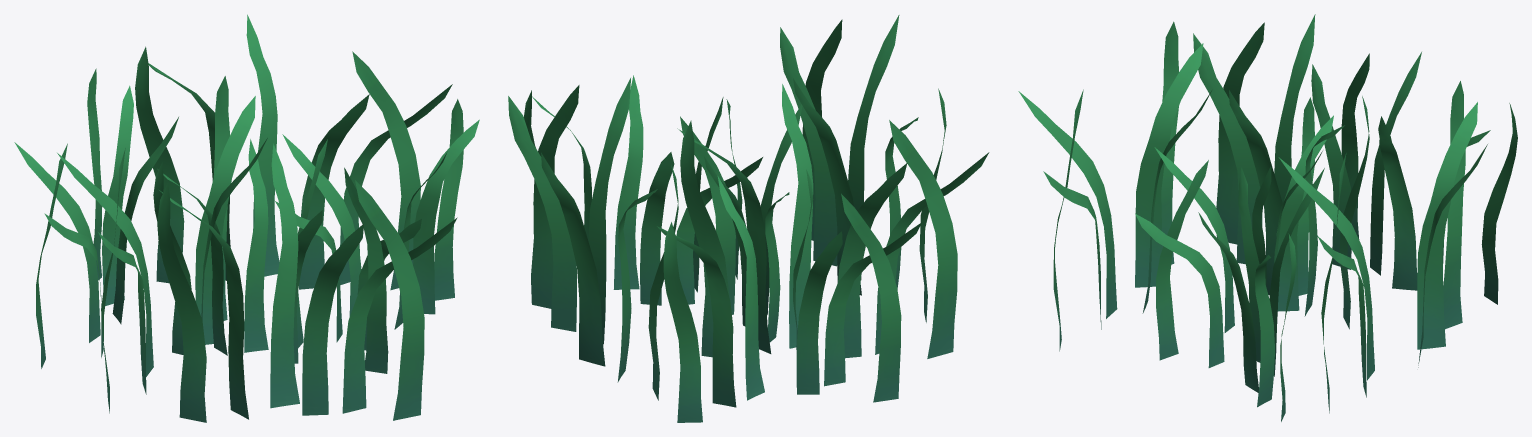
The model's file is Stylized Grass Updated.fbx.
3 renders of one model, left to right at view 1: azimuth 30°, elevation 25°; view 2: azimuth 150°, elevation 25°; view 3: azimuth 270°, elevation 25°, orthographic.
Visible parts, largest first — view 1: Grass; view 2: Grass; view 3: Grass.
Boxes of the visible parts, x1=… form: Grass: x1=14, y1=14, x2=479, y2=422; Grass: x1=508, y1=15, x2=989, y2=422; Grass: x1=1018, y1=14, x2=1517, y2=421.
Bounding box in the file's own units: 0.3471 × 0.1891 × 0.3604.
